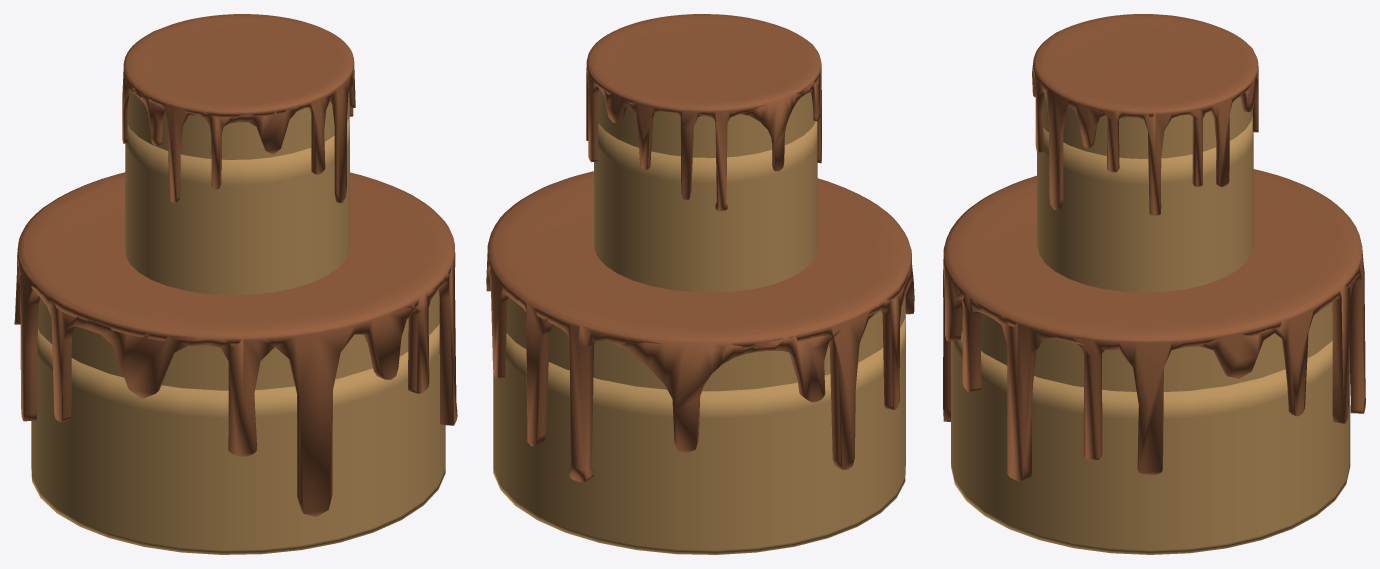
File: 2-tier-caramel-ganache-none.glb
3 views of the same model, side by side, from view 1: azimuth 30°, elevation 25°; view 2: azimuth 150°, elevation 25°; view 3: azimuth 270°, elevation 25° (orthographic).
Parts seen in each view (by area): view 1: Cylinder.023, tHE ICING.004, Cylinder.013, tHE ICING.003; view 2: Cylinder.023, tHE ICING.004, Cylinder.013, tHE ICING.003; view 3: Cylinder.023, tHE ICING.004, Cylinder.013, tHE ICING.003.
Part boxes in pixels (x1,y1,x2,y2): Cylinder.023: [31, 290, 445, 554]; tHE ICING.004: [14, 172, 457, 516]; Cylinder.013: [125, 90, 349, 295]; tHE ICING.003: [122, 14, 355, 203]; Cylinder.023: [493, 295, 905, 554]; tHE ICING.004: [486, 171, 914, 482]; Cylinder.013: [594, 88, 817, 292]; tHE ICING.003: [586, 14, 821, 211]; Cylinder.023: [951, 302, 1350, 554]; tHE ICING.004: [943, 169, 1365, 481]; Cylinder.013: [1037, 94, 1253, 292]; tHE ICING.003: [1032, 14, 1258, 215].
Size of the model in its own units: 3.53 by 3.66 by 3.46.
